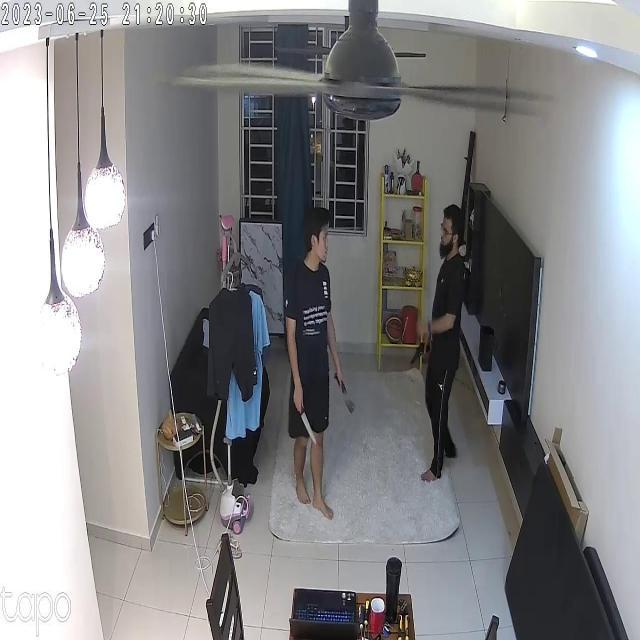Gun: (403, 336, 432, 371)
Knife: (288, 393, 324, 454), (331, 372, 360, 419)
